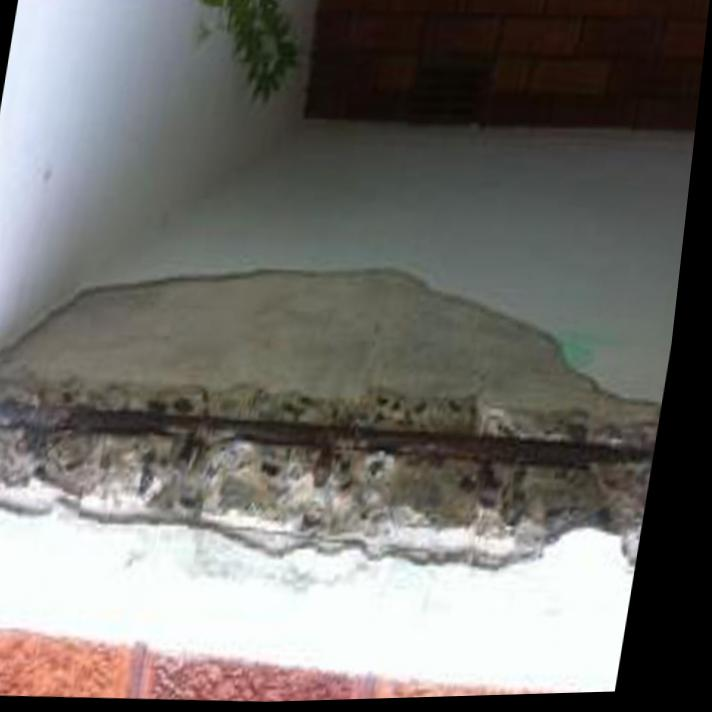damage: (0, 273, 671, 574)
